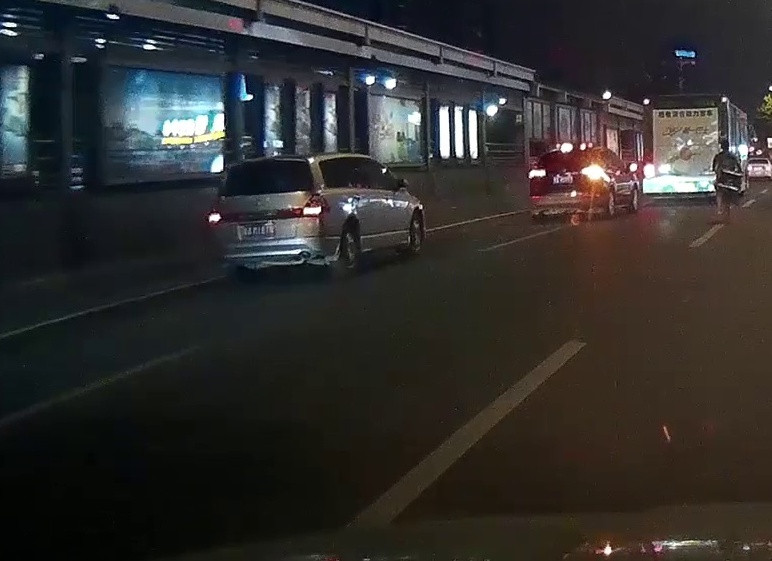L_light: (207, 206, 226, 227), (528, 167, 546, 180)
R_light: (299, 193, 330, 218), (580, 166, 605, 177)
T_light: (248, 158, 276, 162), (559, 146, 573, 152)
night-no: (203, 155, 335, 284)
night-right: (524, 145, 608, 223)
